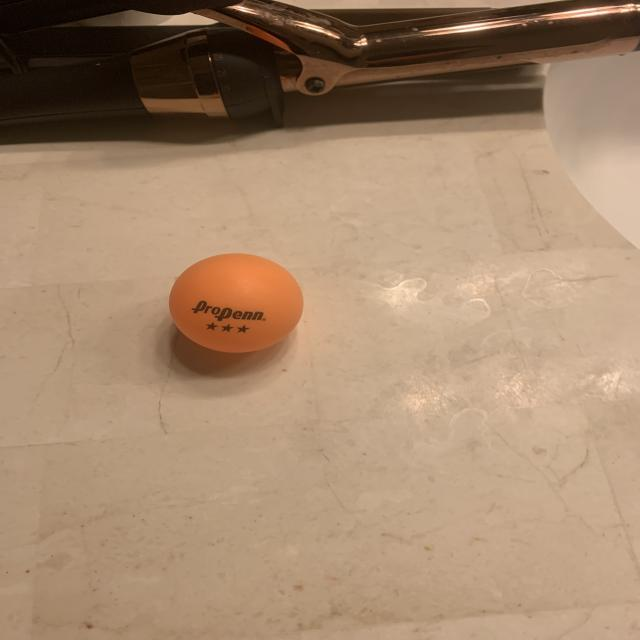ping-pong-ball: (163, 245, 312, 358)
